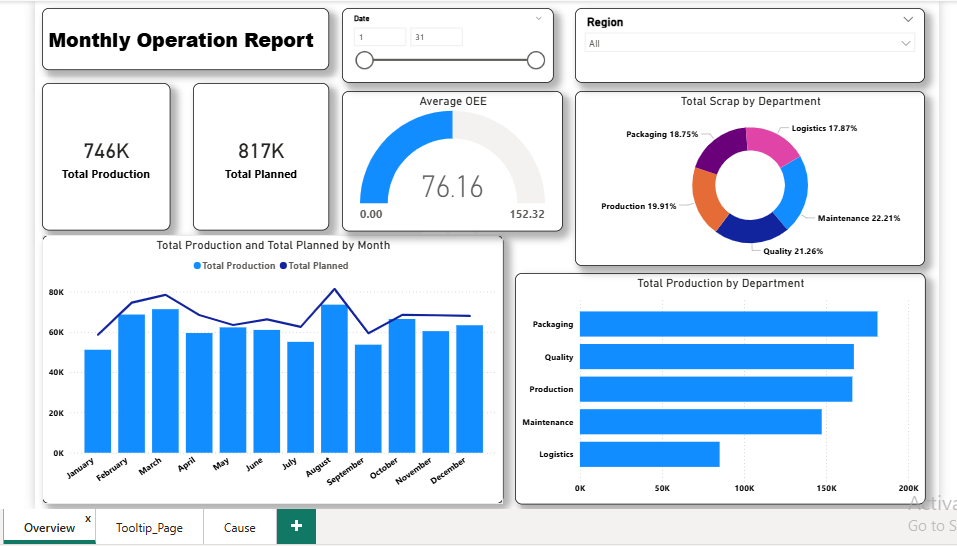

The page's visual inventory and layout, read from the dashboard file:
{"tool":"powerbi","page":{"name":"Overview","canvas":[1280,720],"ordinal":0},"visuals":[{"type":"textbox","box":[9.9,9.9,406.8,87.9],"z":0},{"type":"card","fields":{"Values":["PowerBi_Cleaned.Total Production"]},"box":[10.1,116.9,181.8,209.2],"z":1000},{"type":"card","fields":{"Values":["PowerBi_Cleaned.Total Planned"]},"box":[223.7,116.9,193.4,209.2],"z":2000},{"type":"lineStackedColumnComboChart","fields":{"Category":["PowerBi_Cleaned.Final_Date.Variation.Date Hierarchy.Month"],"Y":["PowerBi_Cleaned.Total Production"],"Y2":["PowerBi_Cleaned.Total Planned"]},"box":[10.1,331.9,653.7,381],"z":3000},{"type":"clusteredBarChart","fields":{"Y":["PowerBi_Cleaned.Total Production"],"Category":["PowerBi_Cleaned.Department"]},"box":[679.7,385.3,581.6,327.6],"z":4000},{"type":"donutChart","fields":{"Category":["PowerBi_Cleaned.Department"],"Y":["PowerBi_Cleaned.Total Scrap"]},"box":[764.8,127,496.4,248.2],"z":5000},{"type":"gauge","title":"Average OEE","fields":{"Y":["PowerBi_Cleaned.AvgOEE"]},"box":[435.8,127,313.1,199.1],"z":6000},{"type":"slicer","fields":{"Values":["PowerBi_Cleaned.Final_Date.Variation.Date Hierarchy.Day"]},"box":[435.1,9.9,300.5,106.3],"z":7000},{"type":"slicer","fields":{"Values":["PowerBi_Cleaned.Region"]},"box":[765.4,9.9,496.1,106.3],"z":8000}]}

Visuals, with their boxes on the page's 1280x720 design canvas (x1, y1, x2, y2). These are canvas units, not pixel positions in the 957x546 screenshot, which may show the page scaled, cropped or inside an application window:
textbox: [left=10, top=10, right=417, bottom=98]
card - PowerBi_Cleaned.Total Production: [left=10, top=117, right=192, bottom=326]
card - PowerBi_Cleaned.Total Planned: [left=224, top=117, right=417, bottom=326]
lineStackedColumnComboChart - PowerBi_Cleaned.Final_Date.Variation.Date Hierarchy.Month x PowerBi_Cleaned.Total Production: [left=10, top=332, right=664, bottom=713]
clusteredBarChart - PowerBi_Cleaned.Total Production x PowerBi_Cleaned.Department: [left=680, top=385, right=1261, bottom=713]
donutChart - PowerBi_Cleaned.Department x PowerBi_Cleaned.Total Scrap: [left=765, top=127, right=1261, bottom=375]
"Average OEE" gauge: [left=436, top=127, right=749, bottom=326]
slicer - PowerBi_Cleaned.Final_Date.Variation.Date Hierarchy.Day: [left=435, top=10, right=736, bottom=116]
slicer - PowerBi_Cleaned.Region: [left=765, top=10, right=1262, bottom=116]
